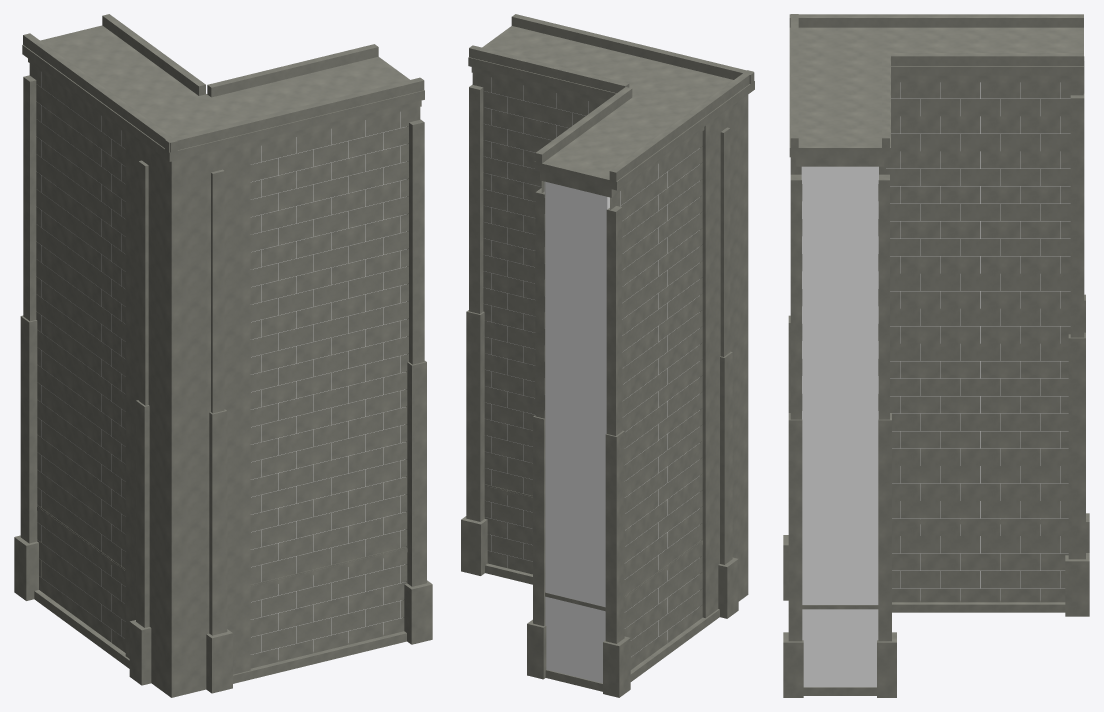
The model's file is GF2_Wall_Corner_24x60_LOD2.fbx.
3 views of the same model, side by side, from view 1: azimuth 30°, elevation 25°; view 2: azimuth 150°, elevation 25°; view 3: azimuth 270°, elevation 25° (orthographic). The views are drawn at different scales.
Parts seen in each view (by area): view 1: GF2_Wall_Corner_24x60_LOD2; view 2: GF2_Wall_Corner_24x60_LOD2; view 3: GF2_Wall_Corner_24x60_LOD2.
Part boxes in pixels (bbox=[...]): GF2_Wall_Corner_24x60_LOD2: bbox=[14, 14, 432, 697]; GF2_Wall_Corner_24x60_LOD2: bbox=[461, 14, 754, 697]; GF2_Wall_Corner_24x60_LOD2: bbox=[783, 14, 1089, 697].
Bounding box in the file's own units: 30.15 × 60.55 × 30.15.
